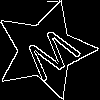W: (20, 25, 88, 90)
